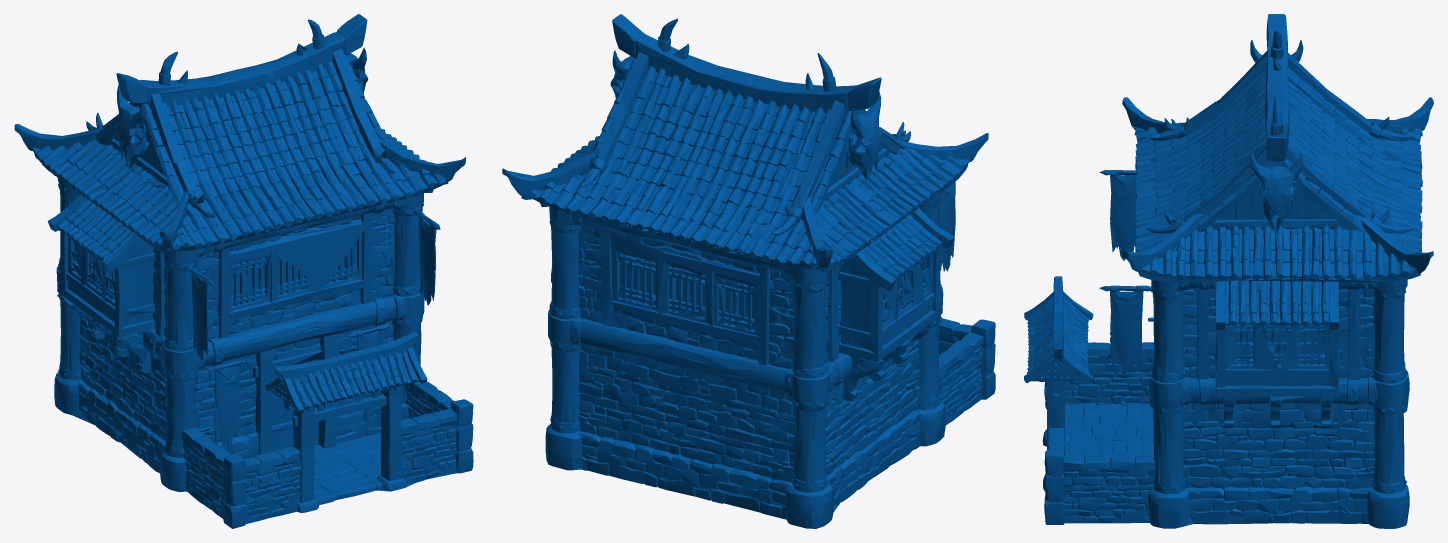
The model's file is house_stone_d.glb.
3 renders of one model, left to right at view 1: azimuth 30°, elevation 25°; view 2: azimuth 150°, elevation 25°; view 3: azimuth 270°, elevation 25°, orthographic. The views are drawn at different scales.
Parts seen in each view (by area): view 1: house_stone_d; view 2: house_stone_d; view 3: house_stone_d.
Part boxes in pixels (x1,y1,x2,y2): house_stone_d: (14, 14, 473, 528); house_stone_d: (502, 14, 995, 528); house_stone_d: (1024, 14, 1433, 528).
Bounding box in the file's own units: 7.64 × 8.5 × 7.89.
Materials: 1 (1 with a texture image).
